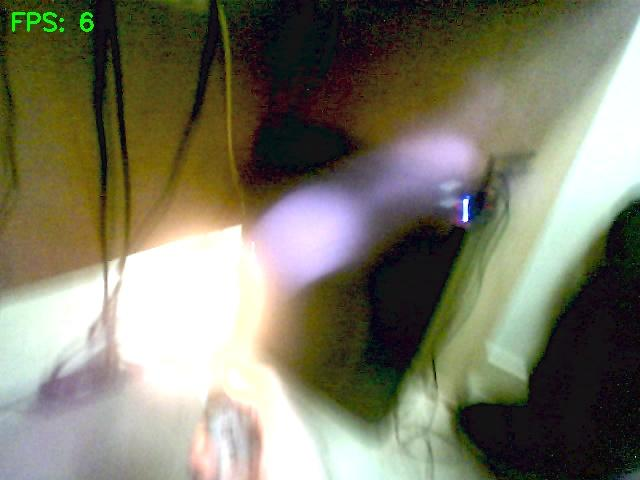fire: (226, 257, 262, 362)
